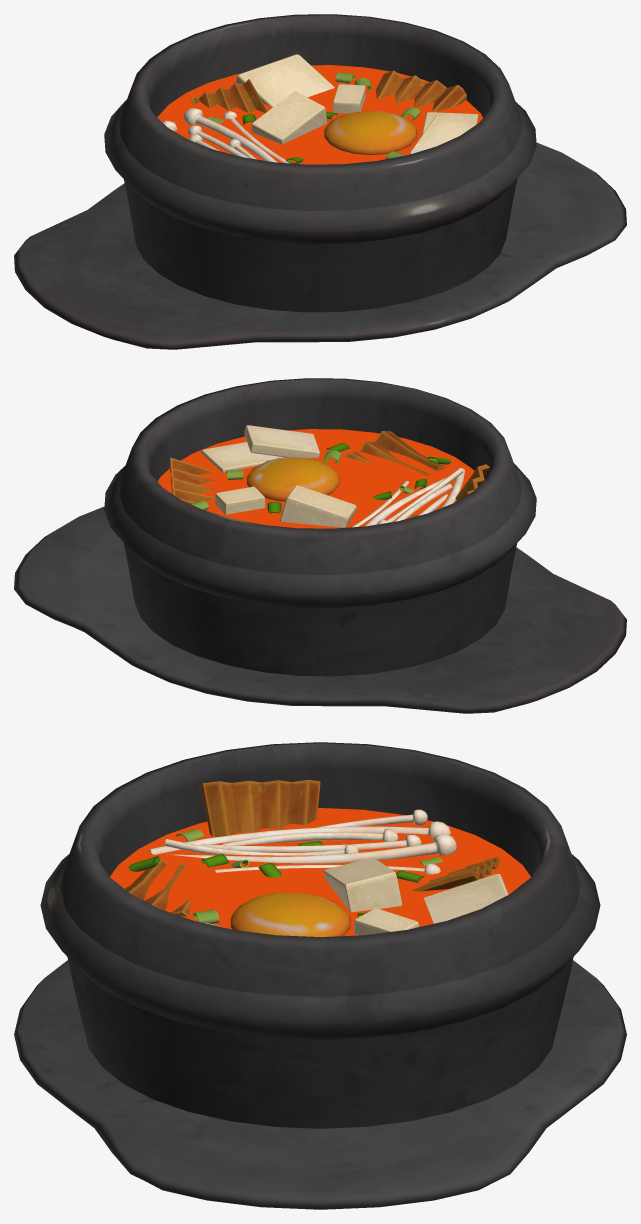
File: Kimchi_Jjigae.fbx
3 views of the same model, one above another, from view 1: azimuth 30°, elevation 25°; view 2: azimuth 150°, elevation 25°; view 3: azimuth 270°, elevation 25° (orthographic). The views are drawn at different scales.
Visible parts, largest first — view 1: Pot_Reduced, Mushroom_Geo7, Soup, Tofu_1_LowRes; view 2: Pot_Reduced, Soup, Mushroom_Geo7, Tofu_1_LowRes; view 3: Pot_Reduced, Mushroom_Geo7, Soup, Tofu_1_LowRes.
Part boxes in pixels (left/top/right/bottom): Pot_Reduced: left=14, top=14, right=626, bottom=349; Mushroom_Geo7: left=162, top=70, right=466, bottom=163; Soup: left=157, top=65, right=482, bottom=164; Tofu_1_LowRes: left=236, top=54, right=478, bottom=154; Pot_Reduced: left=14, top=378, right=626, bottom=713; Soup: left=158, top=429, right=474, bottom=528; Mushroom_Geo7: left=169, top=431, right=489, bottom=528; Tofu_1_LowRes: left=201, top=425, right=356, bottom=527; Pot_Reduced: left=14, top=742, right=626, bottom=1209; Mushroom_Geo7: left=125, top=780, right=499, bottom=936; Soup: left=110, top=808, right=530, bottom=935; Tofu_1_LowRes: left=205, top=857, right=508, bottom=935.
Size of the model in its own units: 9.88 by 3.32 by 7.36.
